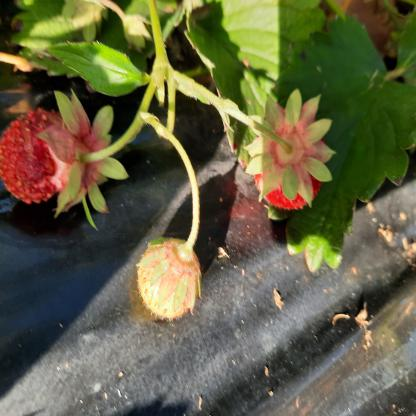ripe: (0, 113, 84, 203), (255, 118, 328, 208)
unripe: (137, 242, 203, 318)
